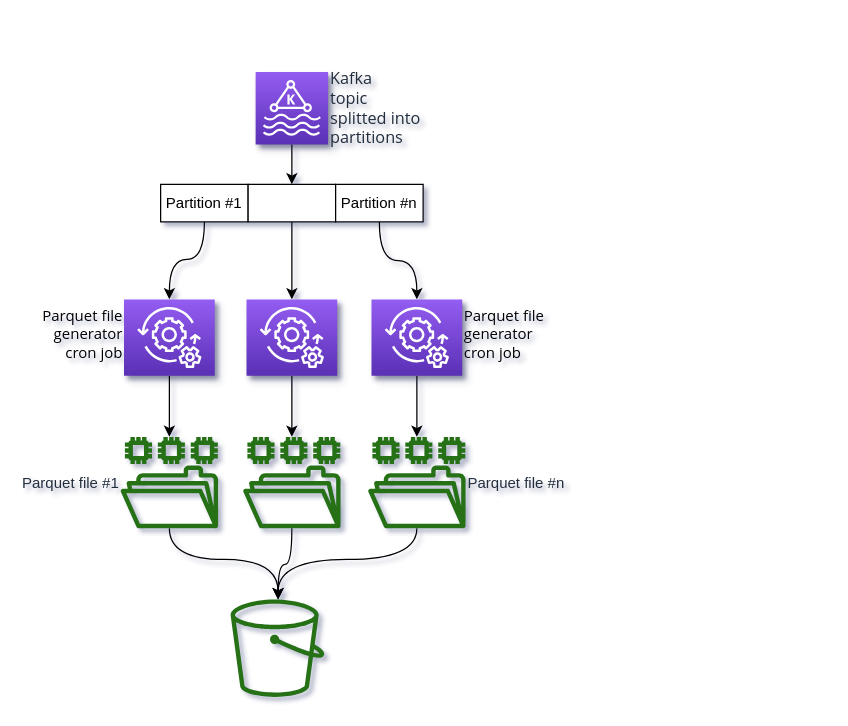
The diagram is 848 pixels wide and 726 high, and some of its shapes have lost their labels. Grey dashed boxes stand in for pictures. The shapes that lost their labels are listed below. From the top down, each one's centre as x and y in pixels, then its label:
At pixel 291 202: "Partition #2".
At pixel 277 647: "CEPH bucket".
